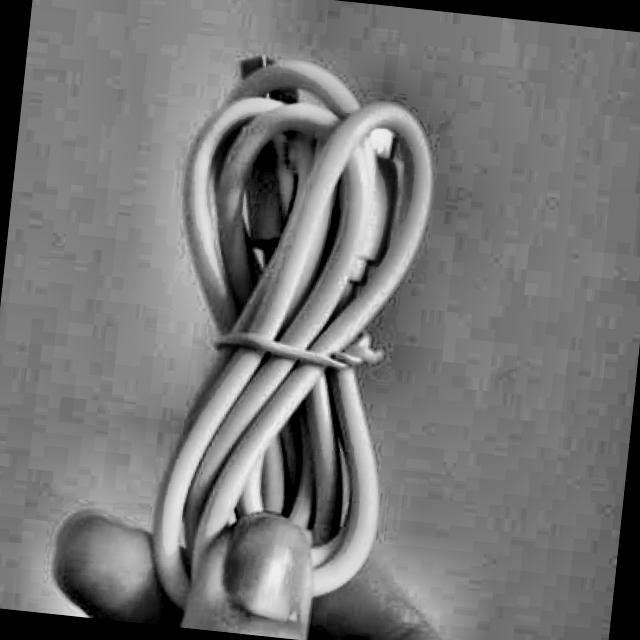Cable: (138, 46, 446, 636)
